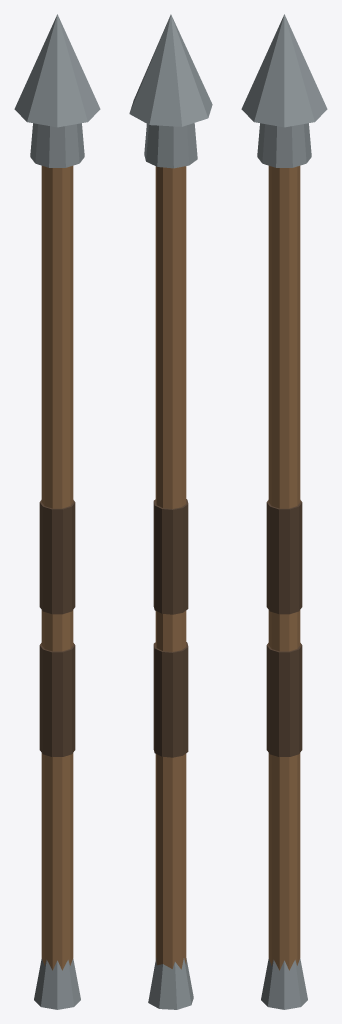
Rendered from LongSpear.glb.
The picture shows the model from 3 angles, left to right: view 1: azimuth 90°, elevation 25°; view 2: azimuth 150°, elevation 25°; view 3: azimuth 270°, elevation 25°; orthographic projection.
Parts seen in each view (by area): view 1: SpearAshShaft, SpearLeafBlade, SpearUpperGripWrap, SpearLowerGripWrap, SpearHeadSocket, SpearButtCap; view 2: SpearAshShaft, SpearLeafBlade, SpearLowerGripWrap, SpearUpperGripWrap, SpearHeadSocket, SpearButtCap; view 3: SpearAshShaft, SpearLeafBlade, SpearUpperGripWrap, SpearLowerGripWrap, SpearHeadSocket, SpearButtCap.
Part boxes in pixels (bbox=[...]): SpearAshShaft: bbox=[41, 166, 73, 970]; SpearLeafBlade: bbox=[14, 14, 100, 127]; SpearUpperGripWrap: bbox=[39, 500, 75, 614]; SpearLowerGripWrap: bbox=[39, 643, 75, 756]; SpearHeadSocket: bbox=[30, 123, 84, 167]; SpearButtCap: bbox=[34, 958, 80, 1009]; SpearAshShaft: bbox=[155, 166, 186, 969]; SpearLeafBlade: bbox=[129, 14, 212, 126]; SpearLowerGripWrap: bbox=[153, 642, 188, 757]; SpearUpperGripWrap: bbox=[153, 499, 188, 614]; SpearHeadSocket: bbox=[144, 123, 197, 168]; SpearButtCap: bbox=[148, 958, 193, 1009]; SpearAshShaft: bbox=[268, 166, 300, 970]; SpearLeafBlade: bbox=[241, 14, 327, 127]; SpearUpperGripWrap: bbox=[266, 500, 302, 614]; SpearLowerGripWrap: bbox=[266, 643, 302, 756]; SpearHeadSocket: bbox=[257, 123, 311, 167]; SpearButtCap: bbox=[261, 958, 307, 1009].
Bounding box in the file's own units: 0.164 × 2.07 × 0.164.
